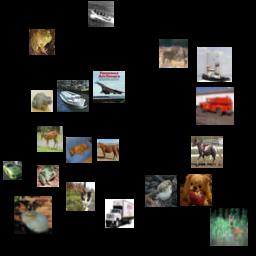airplane: (93, 71, 125, 103)
automobile: (3, 161, 22, 180)
bird: (145, 175, 177, 207)
cat: (14, 196, 52, 234), (66, 182, 95, 211)
deer: (210, 208, 248, 246), (159, 39, 188, 68), (37, 126, 63, 152)
dog: (180, 174, 212, 206), (66, 137, 92, 163)
frog: (29, 29, 55, 55), (31, 90, 53, 112), (37, 165, 59, 187)
ship: (197, 47, 232, 82), (57, 80, 89, 112), (88, 1, 114, 27)
truck: (196, 87, 234, 125), (105, 199, 134, 228)
